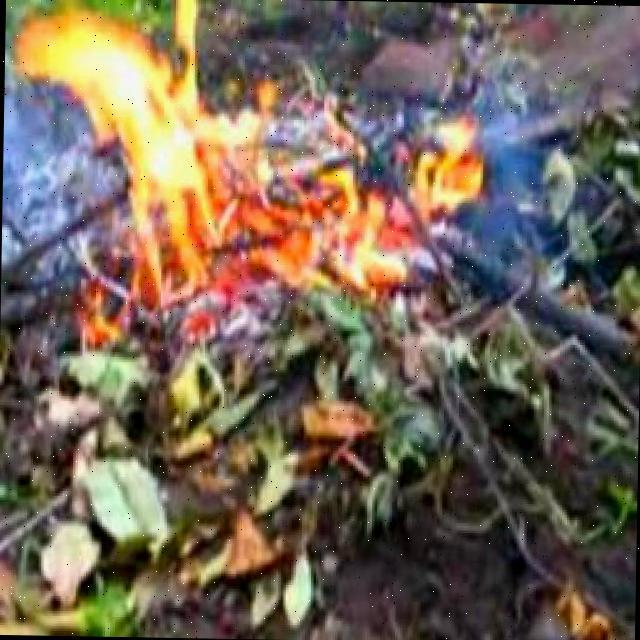Fire: (124, 114, 478, 329), (10, 22, 233, 210)
